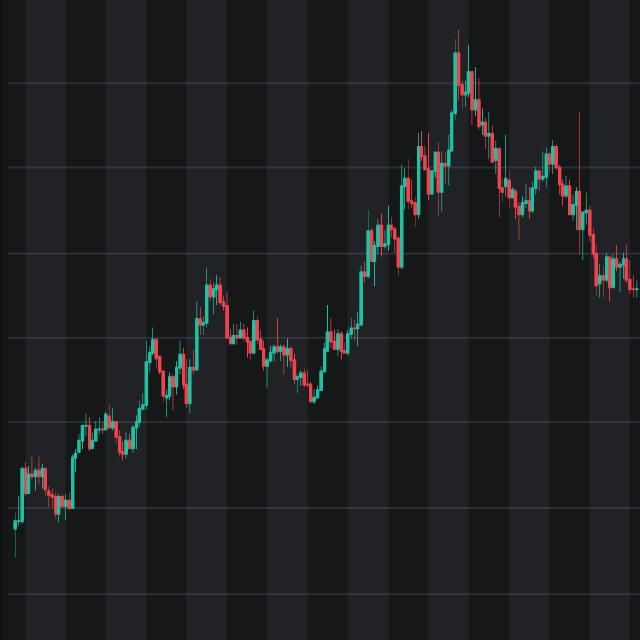Falling-Wedge: (193, 233, 329, 414)
